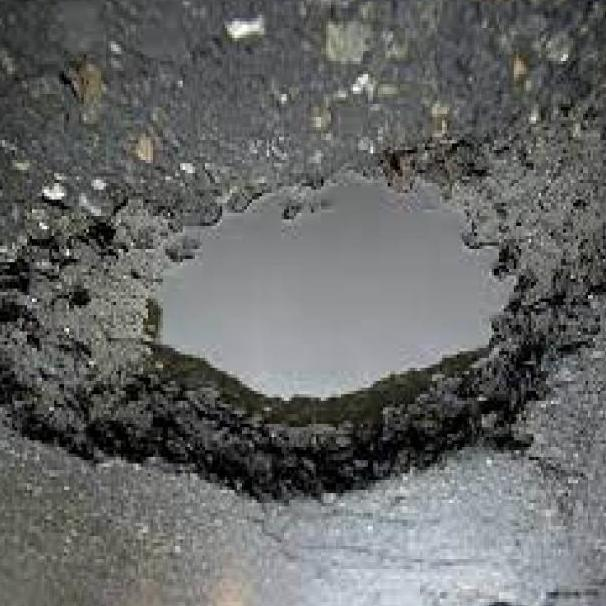pothole: (0, 157, 577, 514)
